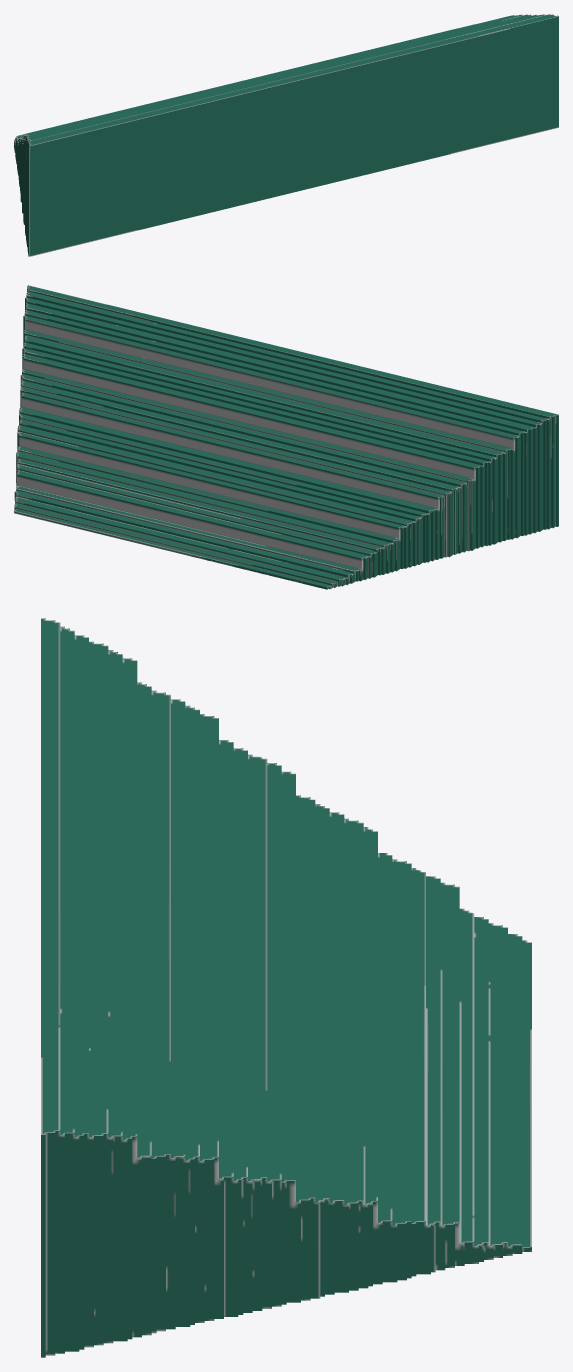
File: RampaMarajoara2.fbx
The picture shows the model from 3 angles, top to bottom: view 1: azimuth 30°, elevation 25°; view 2: azimuth 150°, elevation 25°; view 3: azimuth 270°, elevation 25°; orthographic projection. The views are drawn at different scales.
Visible parts, largest first — view 1: RampaMarajoara2.001; view 2: RampaMarajoara2.001; view 3: RampaMarajoara2.001.
Part boxes in pixels (x1,y1,x2,y2): RampaMarajoara2.001: (14, 14, 558, 256); RampaMarajoara2.001: (14, 285, 558, 589); RampaMarajoara2.001: (41, 618, 531, 1357).
Bounding box in the file's own units: 25.4 × 5.1 × 10.2.
Materials: 1 (1 with a texture image).
